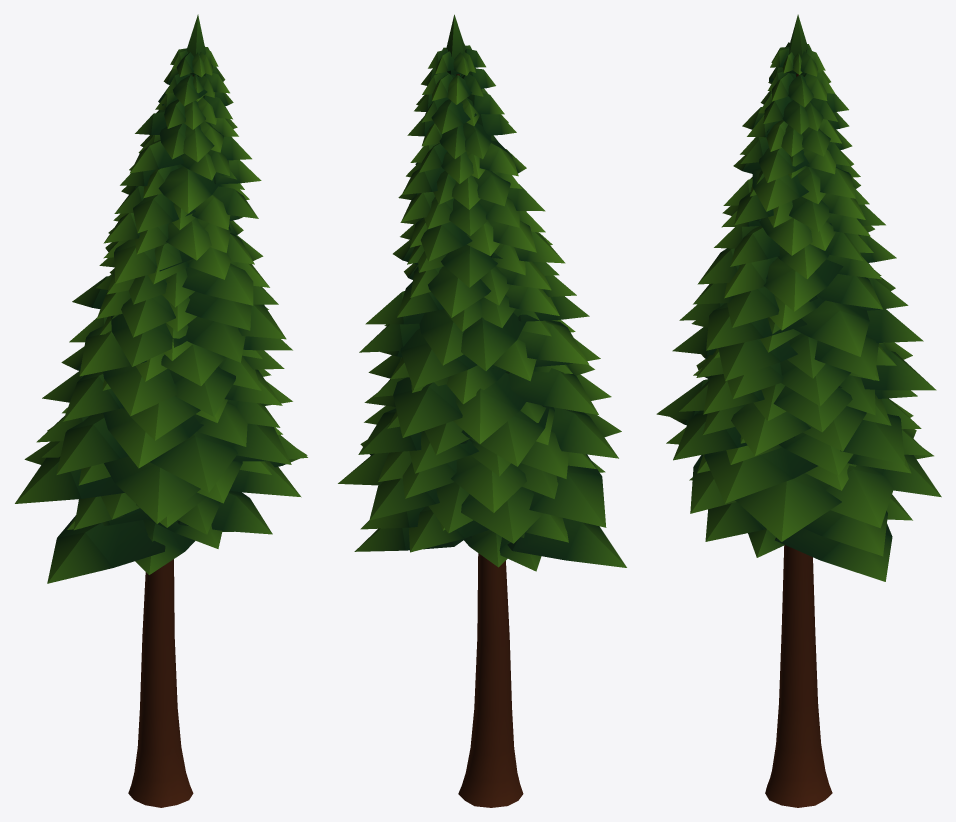
File: douglas-fir-b.glb
3 renders of one model, left to right at view 1: azimuth 30°, elevation 25°; view 2: azimuth 150°, elevation 25°; view 3: azimuth 270°, elevation 25°, orthographic. The views are drawn at different scales.
Visible parts, largest first — view 1: douglas-fir-b.Leaves, douglas-fir-b.Bark; view 2: douglas-fir-b.Leaves, douglas-fir-b.Bark; view 3: douglas-fir-b.Leaves, douglas-fir-b.Bark.
Boxes of the visible parts, x1,y1,x2,y2 form: douglas-fir-b.Leaves: [15, 14, 307, 583]; douglas-fir-b.Bark: [128, 75, 193, 807]; douglas-fir-b.Leaves: [338, 14, 626, 571]; douglas-fir-b.Bark: [456, 74, 523, 807]; douglas-fir-b.Leaves: [656, 14, 941, 581]; douglas-fir-b.Bark: [765, 74, 832, 807].
Size of the model in its own units: 5.12 by 14 by 4.55.
